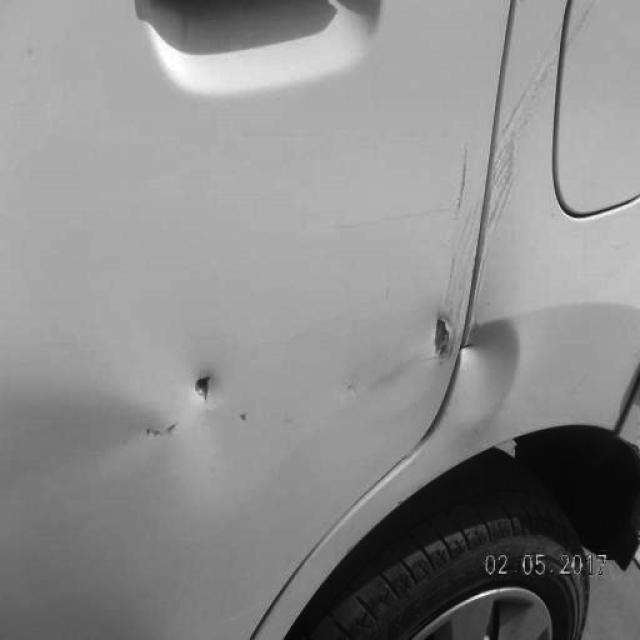car damage: (0, 452, 356, 457), (0, 250, 430, 252)
